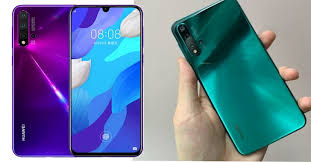huawei: (170, 1, 306, 152), (68, 2, 143, 157), (10, 1, 70, 158)
